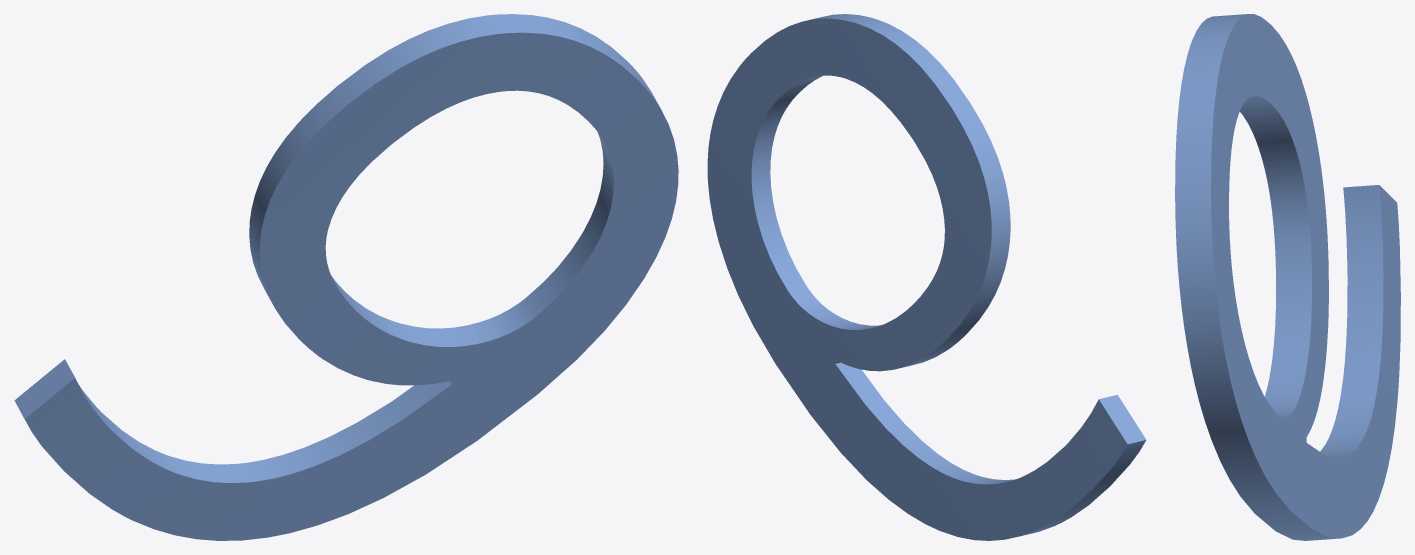
File: Number_9.gltf
The picture shows the model from 3 angles, left to right: view 1: azimuth 30°, elevation 25°; view 2: azimuth 150°, elevation 25°; view 3: azimuth 270°, elevation 25°; orthographic projection. The views are drawn at different scales.
Visible parts, largest first — view 1: Sub_1_Cell_2_1_Number_9; view 2: Sub_1_Cell_2_1_Number_9; view 3: Sub_1_Cell_2_1_Number_9.
Boxes of the visible parts, x1=… form: Sub_1_Cell_2_1_Number_9: x1=14, y1=14, x2=678, y2=540; Sub_1_Cell_2_1_Number_9: x1=707, y1=14, x2=1146, y2=540; Sub_1_Cell_2_1_Number_9: x1=1175, y1=14, x2=1400, y2=540.
Bounding box in the file's own units: 0.0251 × 0.0214 × 0.00769.
